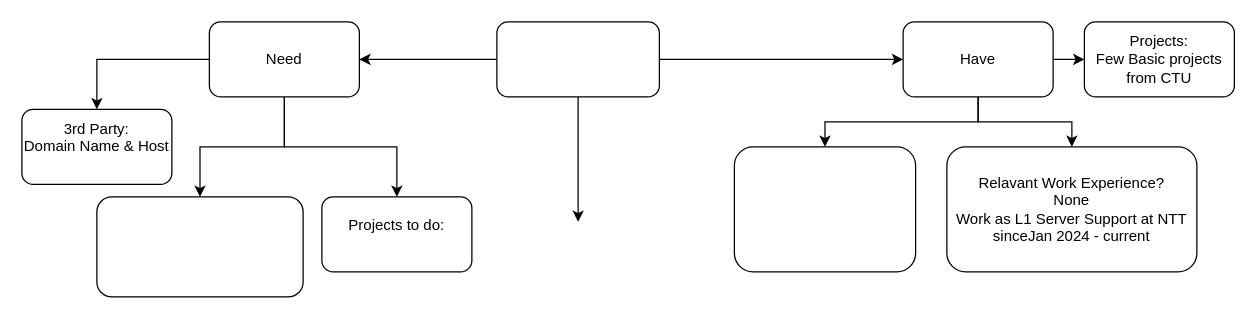
This 1256x319 diagram has some shape labels left out. Here are the shapes that lost their labels. From the top down, the box of each, then its label:
(496, 21, 659, 97): Goal: Portfolio
(733, 146, 916, 272): Studies: Certificates SAASTA cert College Diploma
(96, 196, 303, 297): Sections: Projects Studies Work Experience Contact me
